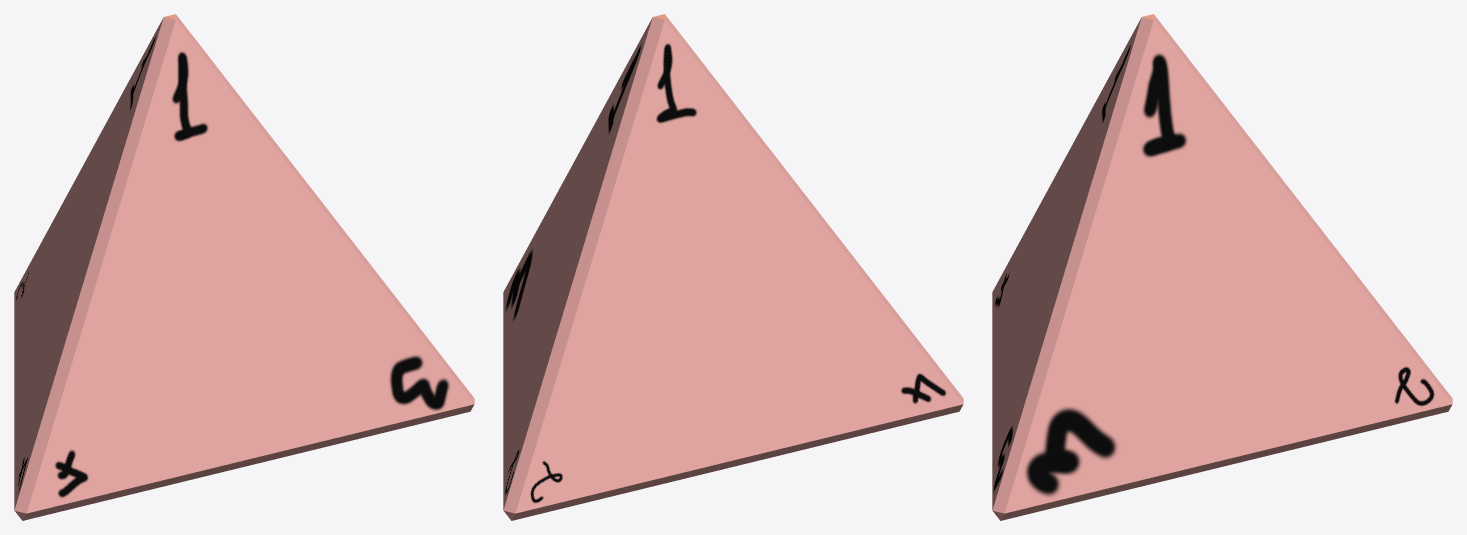
The model's file is d_four.fbx.
3 renders of one model, left to right at view 1: azimuth 30°, elevation 25°; view 2: azimuth 150°, elevation 25°; view 3: azimuth 270°, elevation 25°, orthographic.
Visible parts, largest first — view 1: Cone; view 2: Cone; view 3: Cone.
Part boxes in pixels (x1,y1,x2,y2): Cone: (14, 14, 474, 520); Cone: (503, 14, 963, 520); Cone: (992, 14, 1452, 520).
Size of the model in its own units: 1.65 by 1.35 by 1.43.
